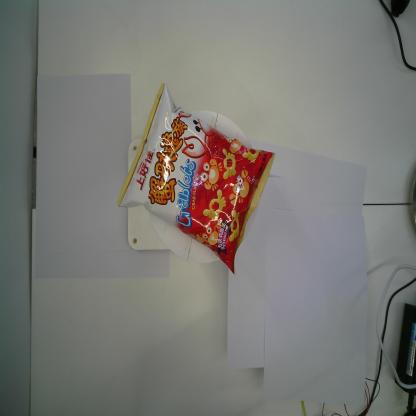Puffed Food: (115, 78, 277, 278)
